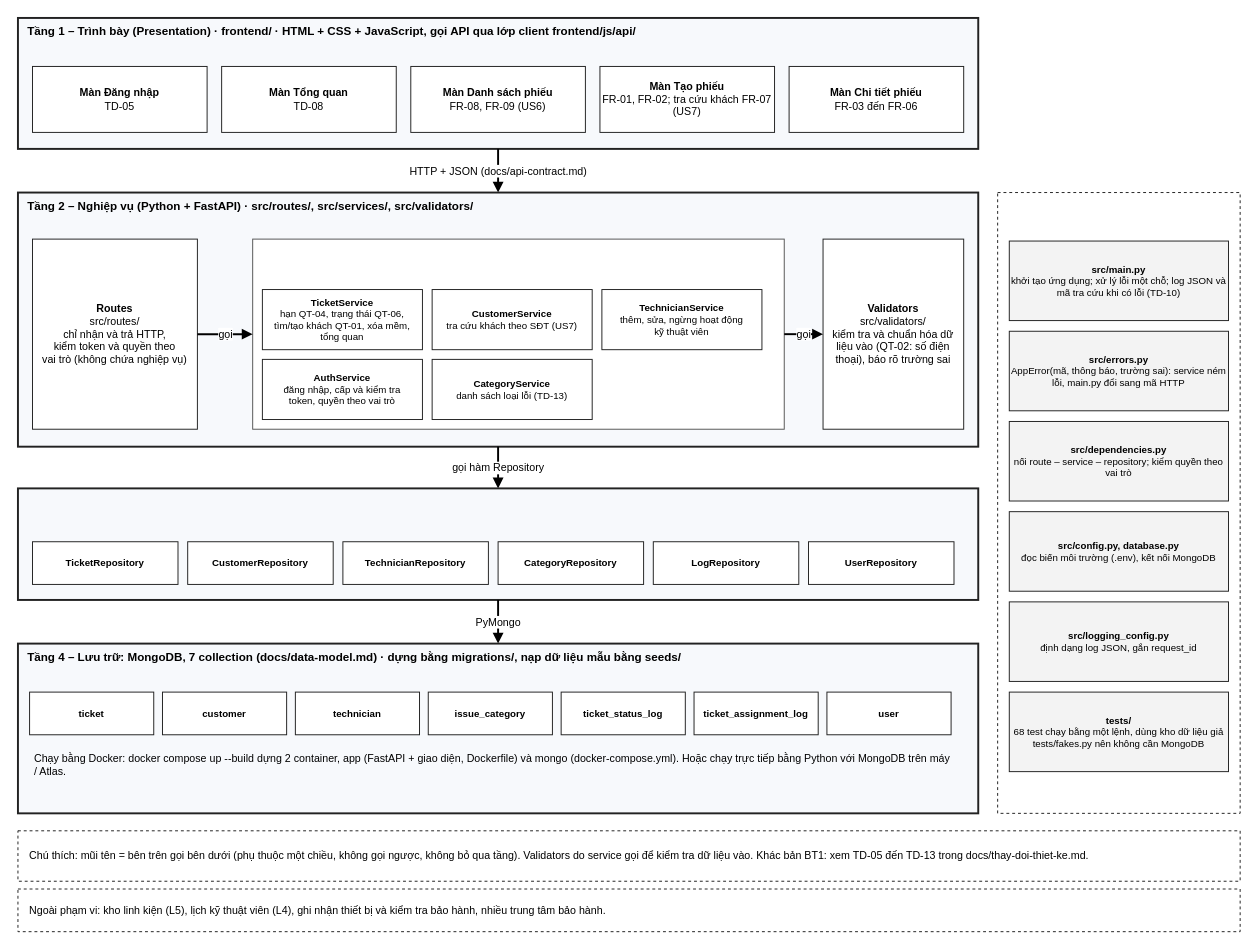
The diagram is 1257 pixels wide and 949 high, and some of its shapes have lost their labels. The box of each missing label's shape, as (x1, y1, x2, y2) in pixels:
Dùng chung cho cả hệ thống: (997, 192, 1240, 813)
Services · src/services/ (quy tắc nghiệp vụ, không biết HTTP và MongoDB): (252, 238, 784, 429)
Tầng 3 – Truy cập dữ liệu (Python + PyMongo, mẫu Repository) · src/repositories/: (16, 487, 979, 600)
